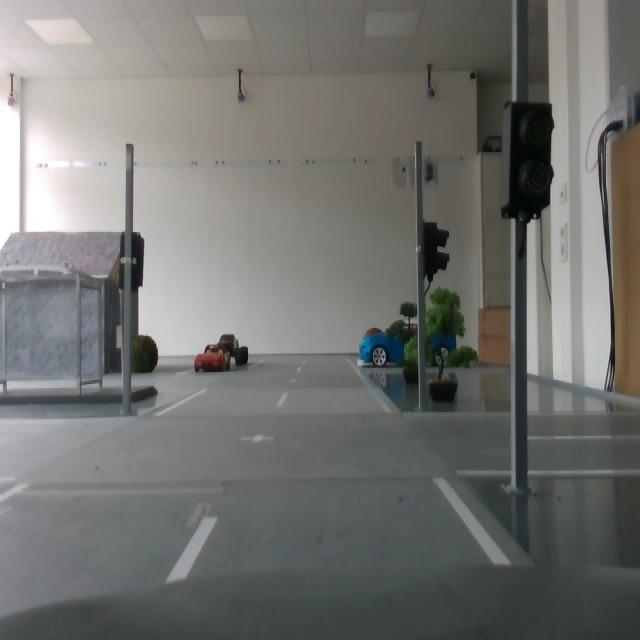car: (358, 321, 459, 368), (213, 334, 251, 369), (195, 344, 234, 375)
potted plant: (402, 288, 479, 402), (386, 300, 418, 383), (129, 335, 159, 377), (362, 328, 386, 361)
traffic light: (500, 100, 555, 222), (423, 221, 450, 282), (120, 230, 146, 291)
